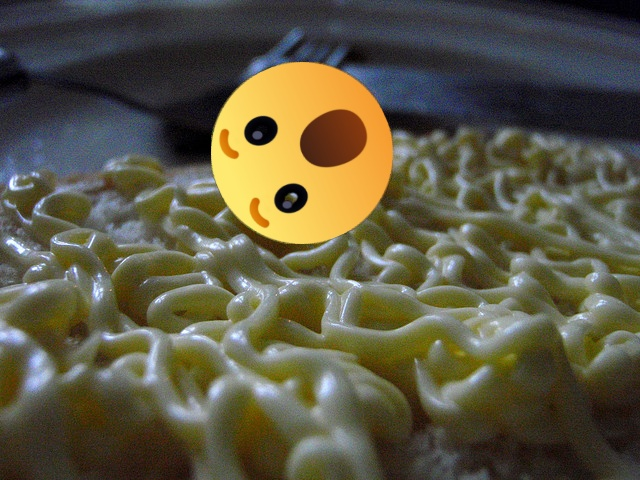wow: (211, 62, 393, 244)
